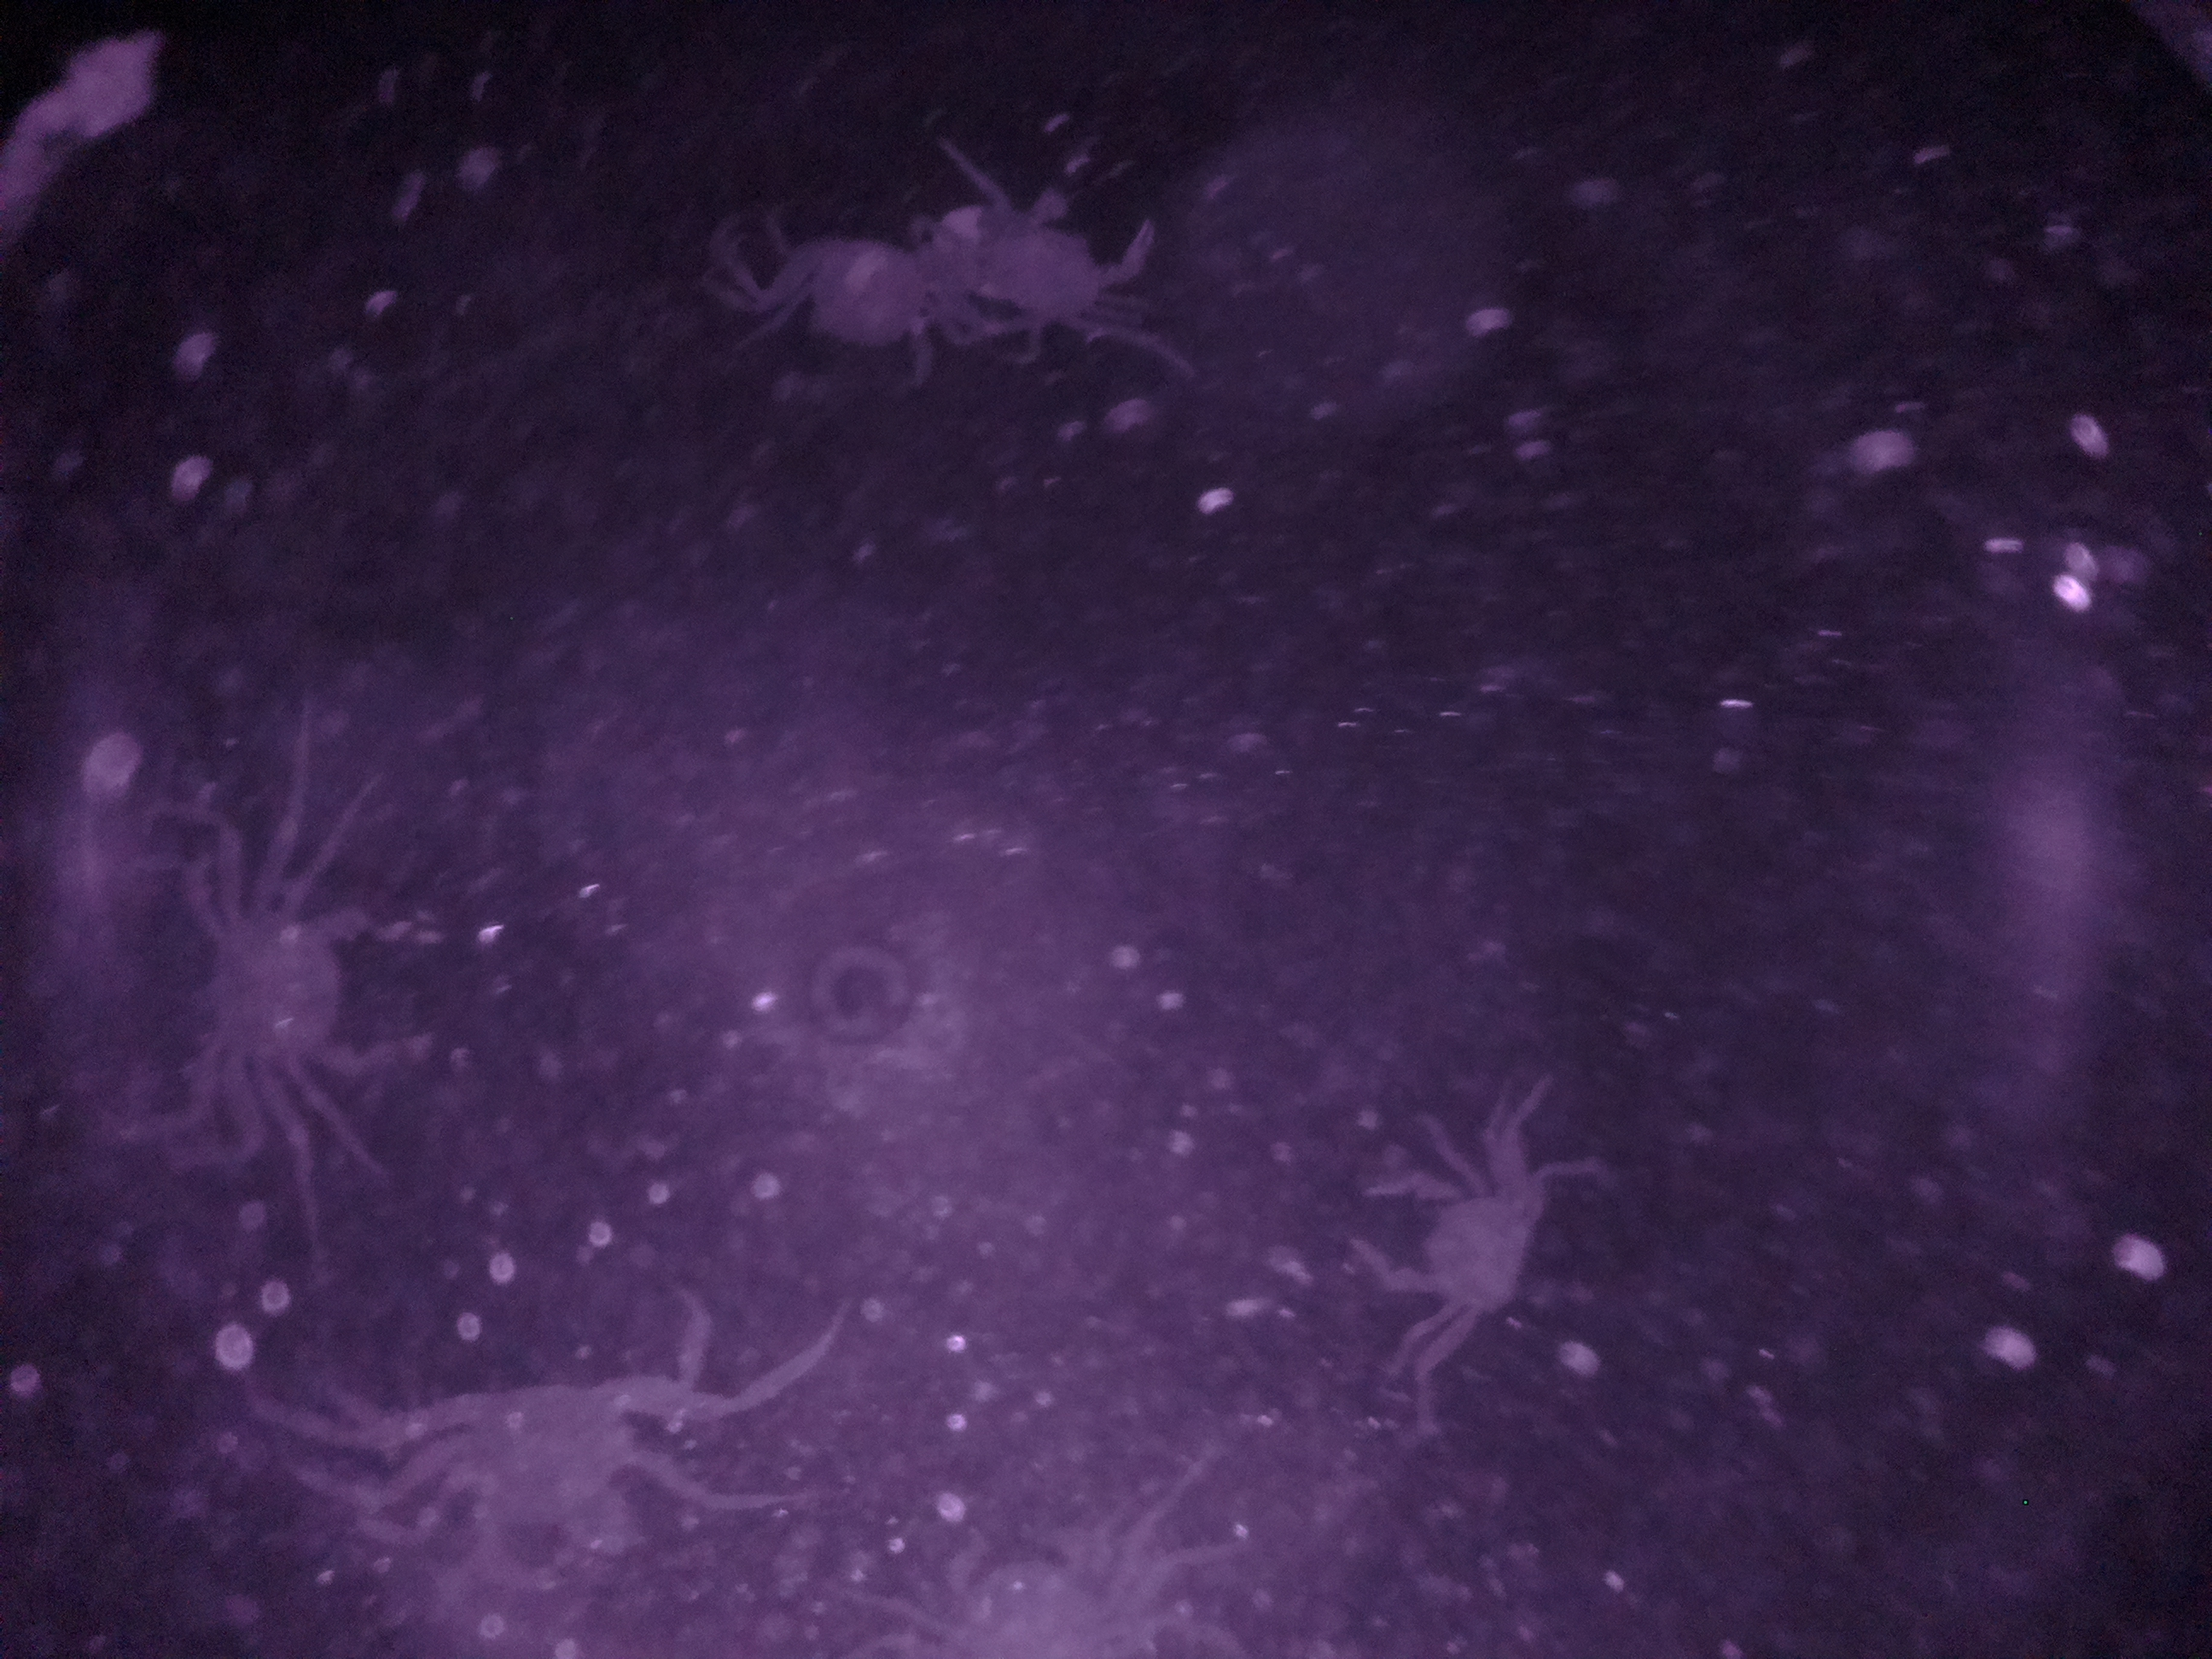Crab: (157, 864, 502, 1121), (1320, 1138, 1552, 1352)
